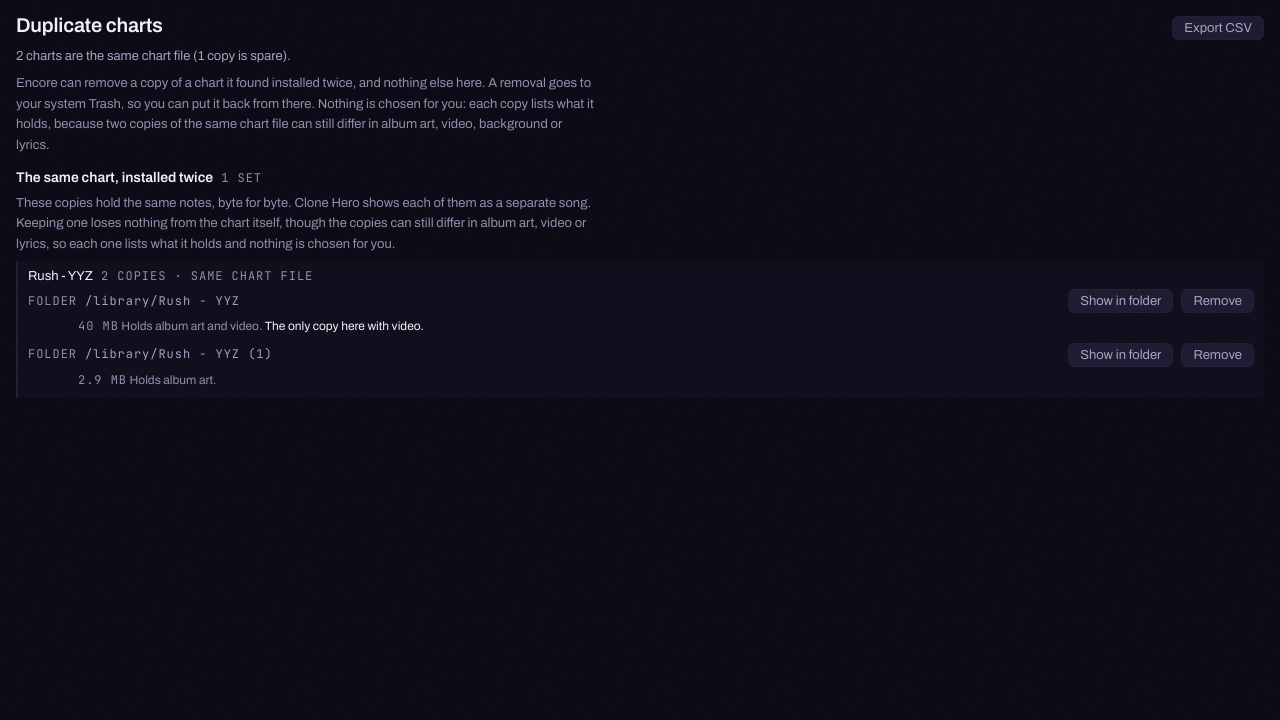
Duplicates: removing one copy of an identical pair › warns in the confirmation when this copy is the only one holding something
The width and height of the screenshot is (1280, 720).
Click the button with aria-label "Remove this copy: /library/Rush - YYZ" at (1218, 301), box [1181,289,1254,313]
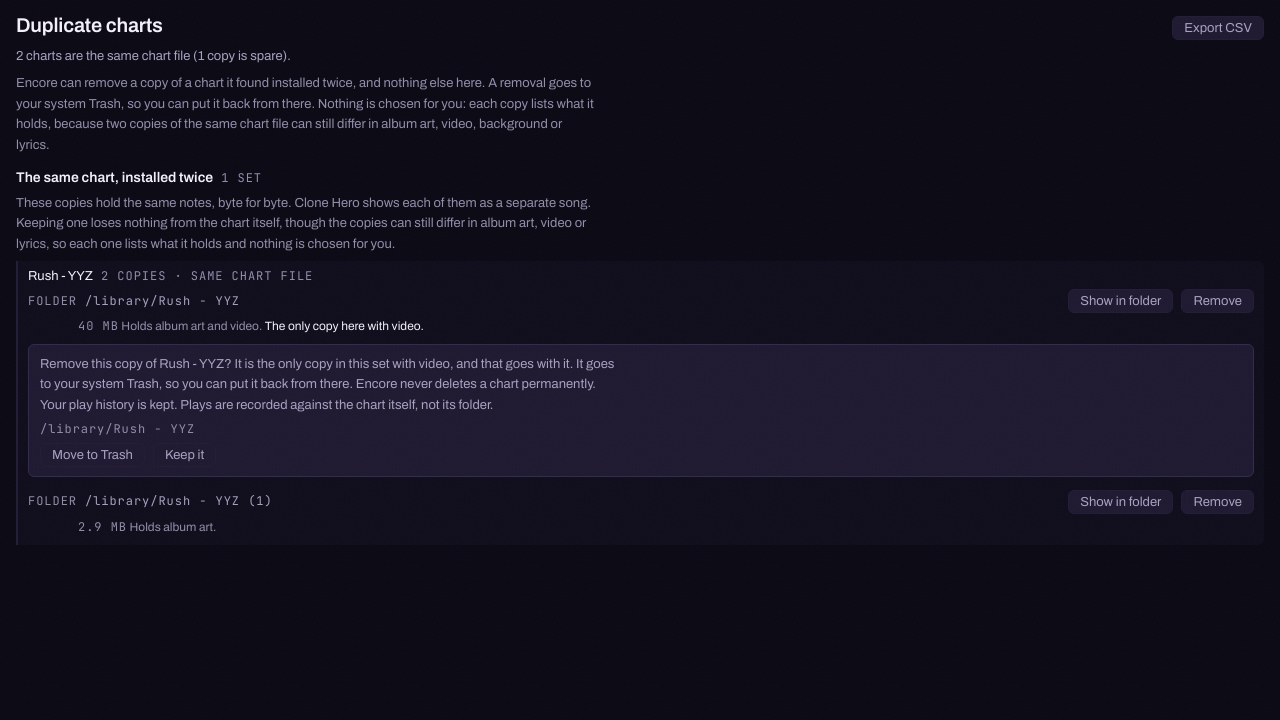
Now the text "the only copy in this set with video, and that goes with it" is shown, box [235,357,573,371]
